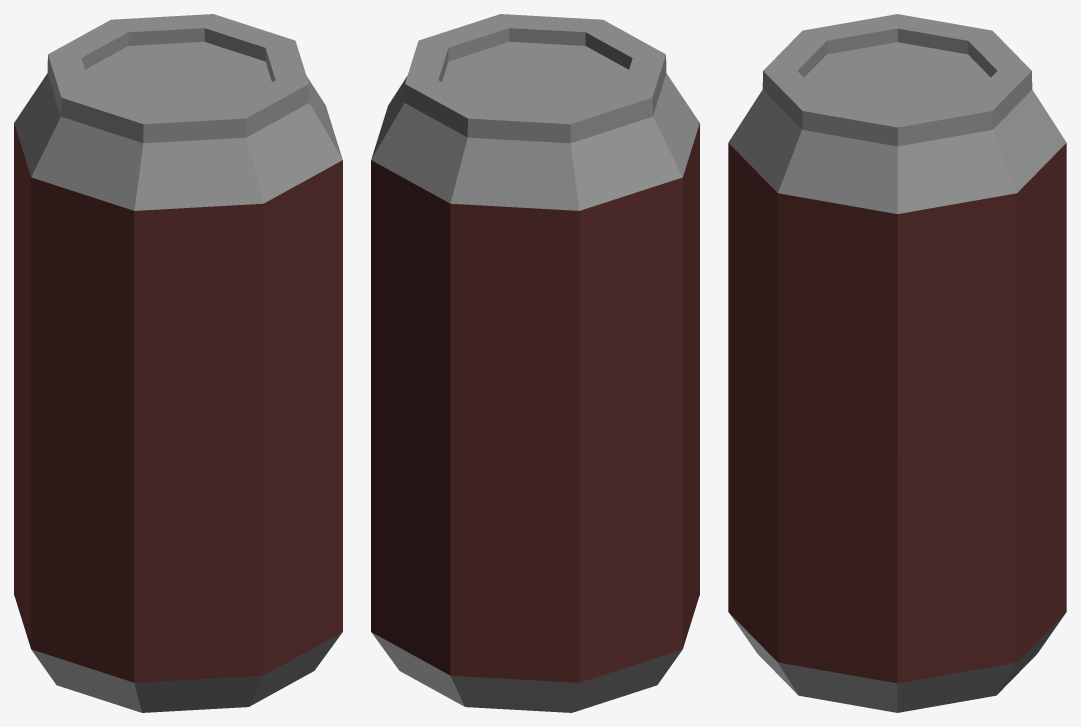
Rendered from beer_canfbx.fbx.
3 renders of one model, left to right at view 1: azimuth 30°, elevation 25°; view 2: azimuth 150°, elevation 25°; view 3: azimuth 270°, elevation 25°, orthographic.
Parts seen in each view (by area): view 1: beer can; view 2: beer can; view 3: beer can.
Boxes of the visible parts, x1,y1,x2,y2 form: beer can: (14,14,342,712); beer can: (371,14,699,712); beer can: (728,14,1066,712).
Bounding box in the file's own units: 200 × 380 × 200.
